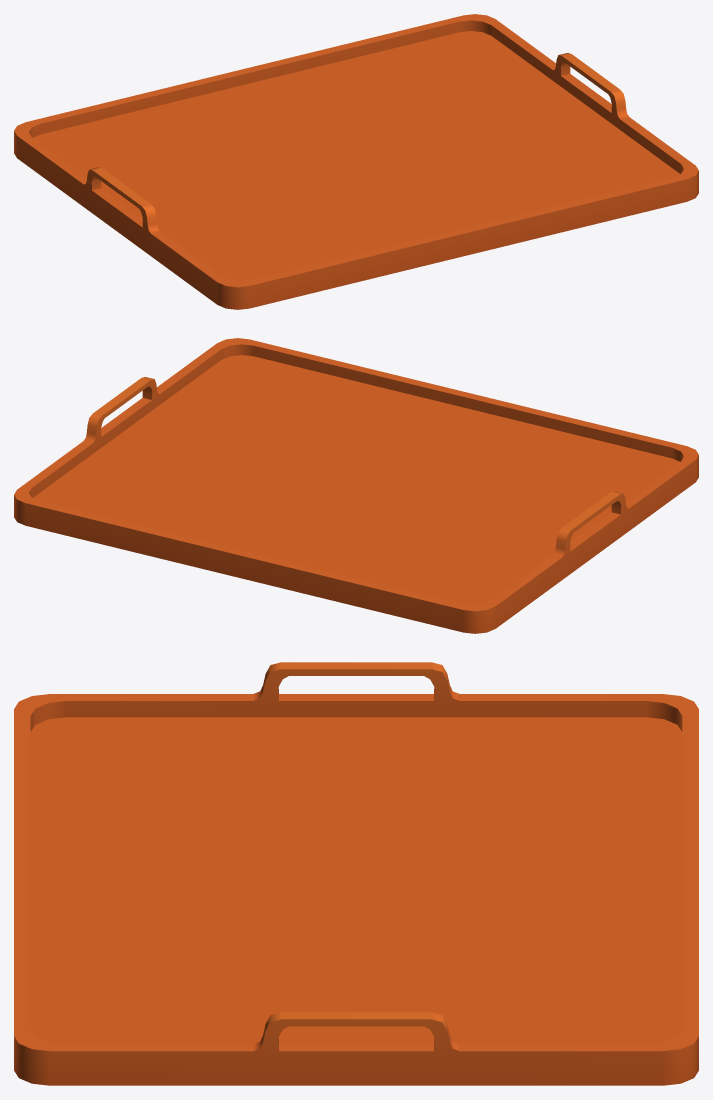
Rendered from tray.fbx.
3 renders of one model, top to bottom at view 1: azimuth 30°, elevation 25°; view 2: azimuth 150°, elevation 25°; view 3: azimuth 270°, elevation 25°, orthographic. The views are drawn at different scales.
Visible parts, largest first — view 1: tray_mesh; view 2: tray_mesh; view 3: tray_mesh.
Part boxes in pixels (left/top/right/bottom): tray_mesh: left=14, top=14, right=698, bottom=309; tray_mesh: left=14, top=338, right=698, bottom=633; tray_mesh: left=14, top=662, right=698, bottom=1085.
Bounding box in the file's own units: 1.93 × 0.1668 × 1.56.
